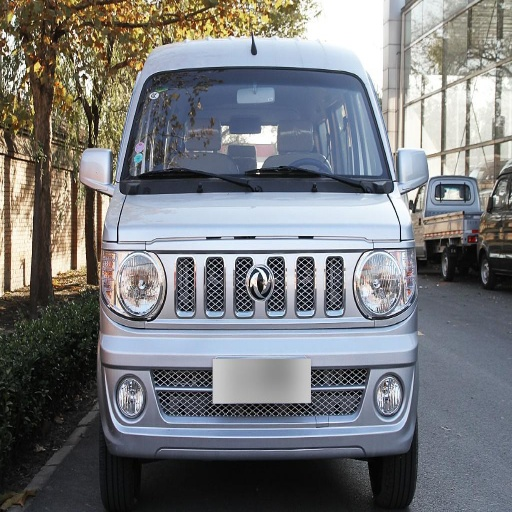front_bumper: (103, 239, 415, 457)
front_right_light: (102, 253, 164, 316)
hood: (104, 194, 400, 250)
left_mirror: (397, 148, 428, 190)
